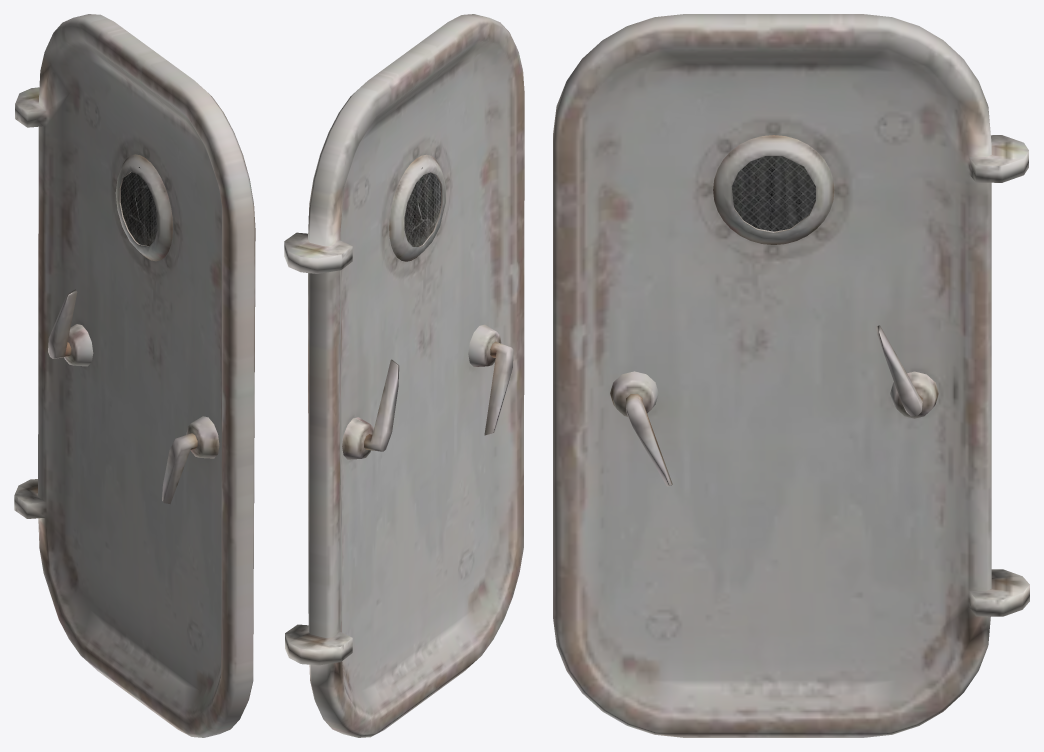
Rendered from door.hinged.underwater_labs.security.glb.
3 views of the same model, side by side, from view 1: azimuth 30°, elevation 25°; view 2: azimuth 150°, elevation 25°; view 3: azimuth 270°, elevation 25° (orthographic). The views are drawn at different scales.
Visible parts, largest first — view 1: ship_door_LOD0; view 2: ship_door_LOD0; view 3: ship_door_LOD0.
Boxes of the visible parts, bbox=[...] form: ship_door_LOD0: bbox=[14, 14, 255, 737]; ship_door_LOD0: bbox=[284, 14, 524, 737]; ship_door_LOD0: bbox=[553, 14, 1029, 737].
Size of the model in its own units: 0.2342 by 2.16 by 1.3.
2 materials, 2 textured.
